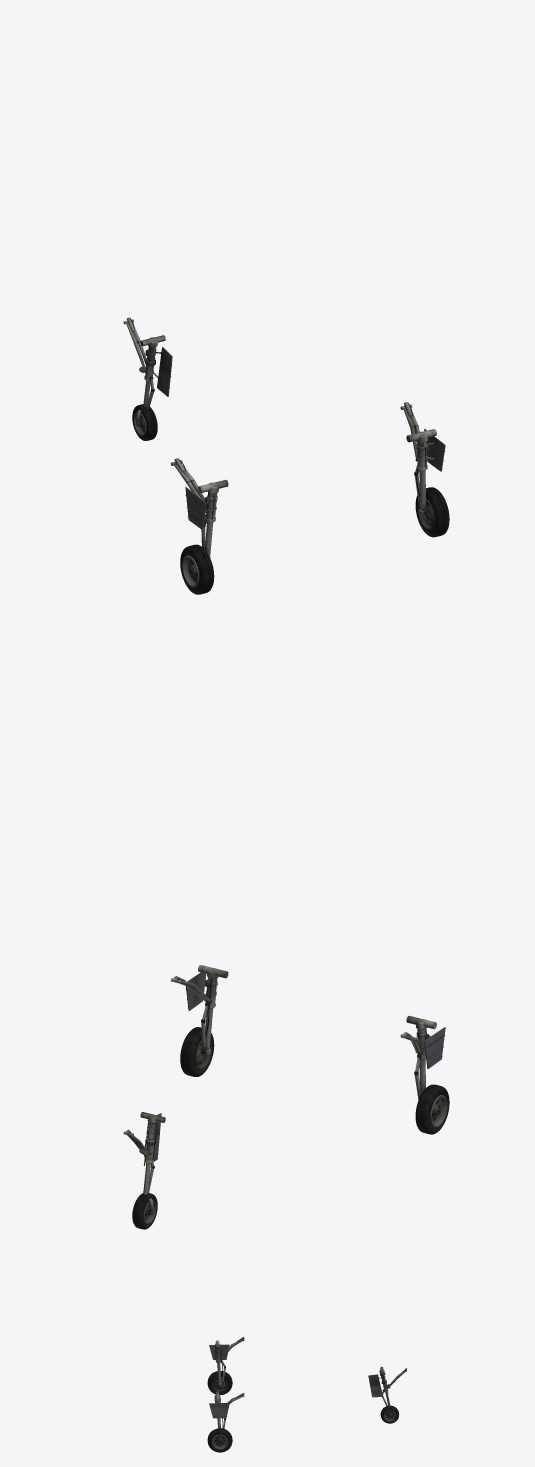
Rendered from f35_gear.glb.
3 renders of one model, top to bottom at view 1: azimuth 30°, elevation 25°; view 2: azimuth 150°, elevation 25°; view 3: azimuth 270°, elevation 25°, orthographic. The views are drawn at different scales.
Visible parts, largest first — view 1: gear_m_l, gear_m_r, gear_n; view 2: gear_m_l, gear_m_r, gear_n; view 3: gear_m_r, gear_m_l, gear_n.
Part boxes in pixels (left/top/right/bottom): gear_m_l: left=180, top=480, right=228, bottom=594; gear_m_r: left=406, top=429, right=449, bottom=537; gear_n: left=132, top=335, right=172, bottom=440; gear_m_l: left=406, top=1016, right=449, bottom=1134; gear_m_r: left=180, top=965, right=228, bottom=1076; gear_n: left=132, top=1112, right=165, bottom=1229; gear_m_r: left=207, top=1391, right=232, bottom=1452; gear_m_l: left=207, top=1340, right=232, bottom=1394; gear_n: left=368, top=1366, right=399, bottom=1423.
Bounding box in the file's own units: 4.45 × 5.61 × 15.67.
1 material, 1 textured.
